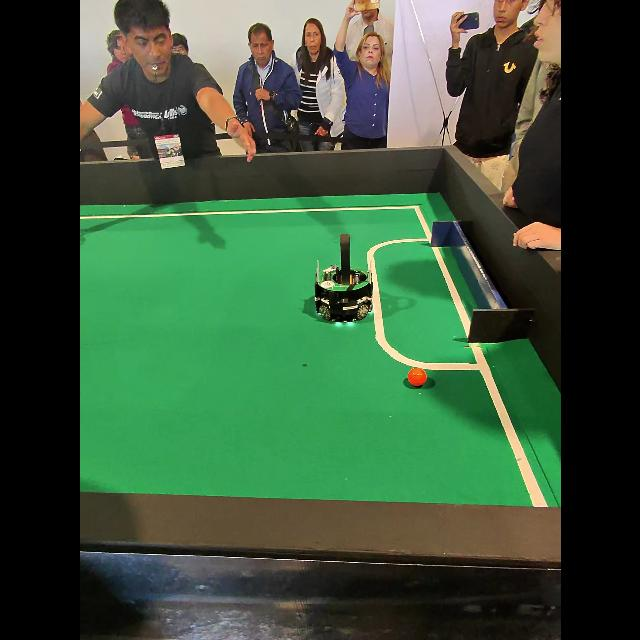ball: (407, 368, 426, 386)
goal: (430, 221, 533, 342)
robot: (314, 234, 372, 322)
